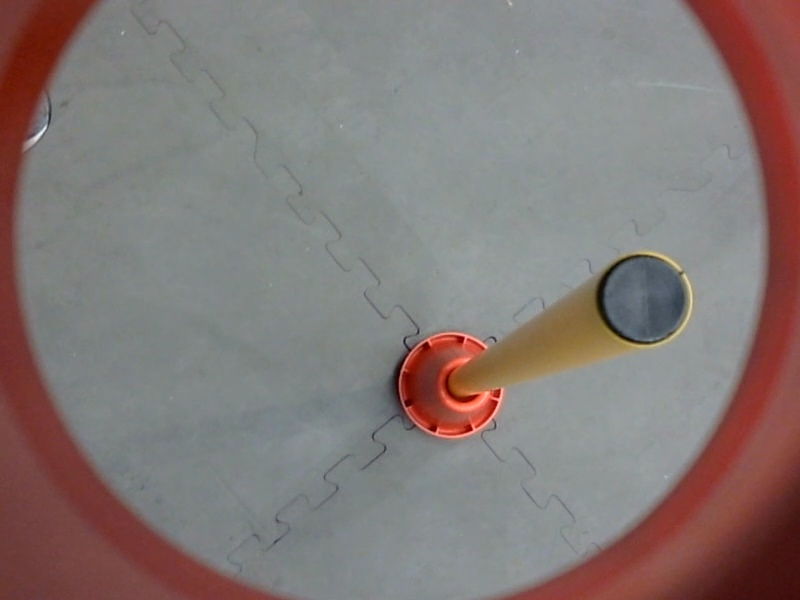tip: (590, 244, 698, 355)
